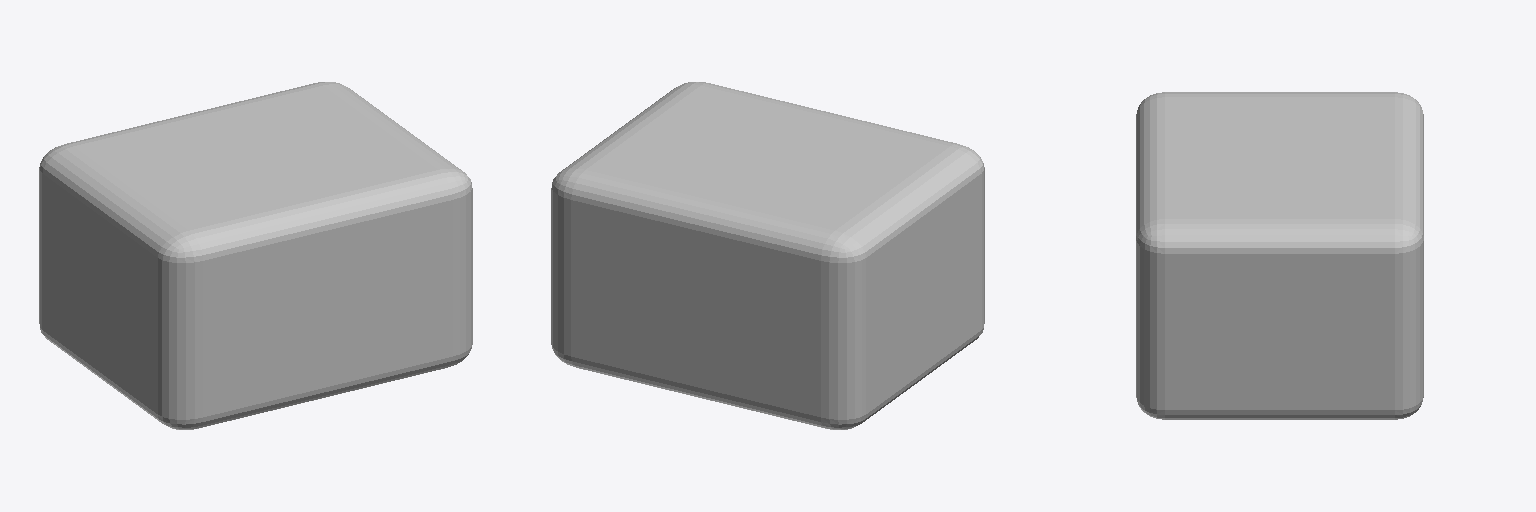
The model's file is curvycube.obj.
3 renders of one model, left to right at view 1: azimuth 30°, elevation 25°; view 2: azimuth 150°, elevation 25°; view 3: azimuth 270°, elevation 25°, orthographic.
Visible parts, largest first — view 1: Cube; view 2: Cube; view 3: Cube.
Part boxes in pixels (left/top/right/bottom): Cube: left=39, top=82, right=472, bottom=429; Cube: left=551, top=82, right=984, bottom=429; Cube: left=1136, top=92, right=1423, bottom=419.
Bounding box in the file's own units: 2.5 × 1.5 × 2.